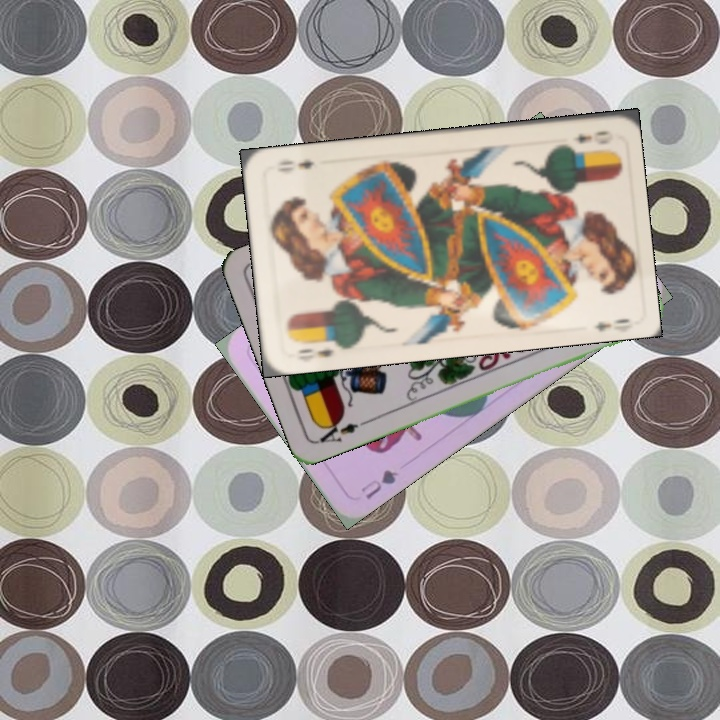EA: (314, 415, 361, 448)
EO: (288, 335, 345, 360), (568, 127, 615, 147)
GU: (357, 465, 401, 502)
